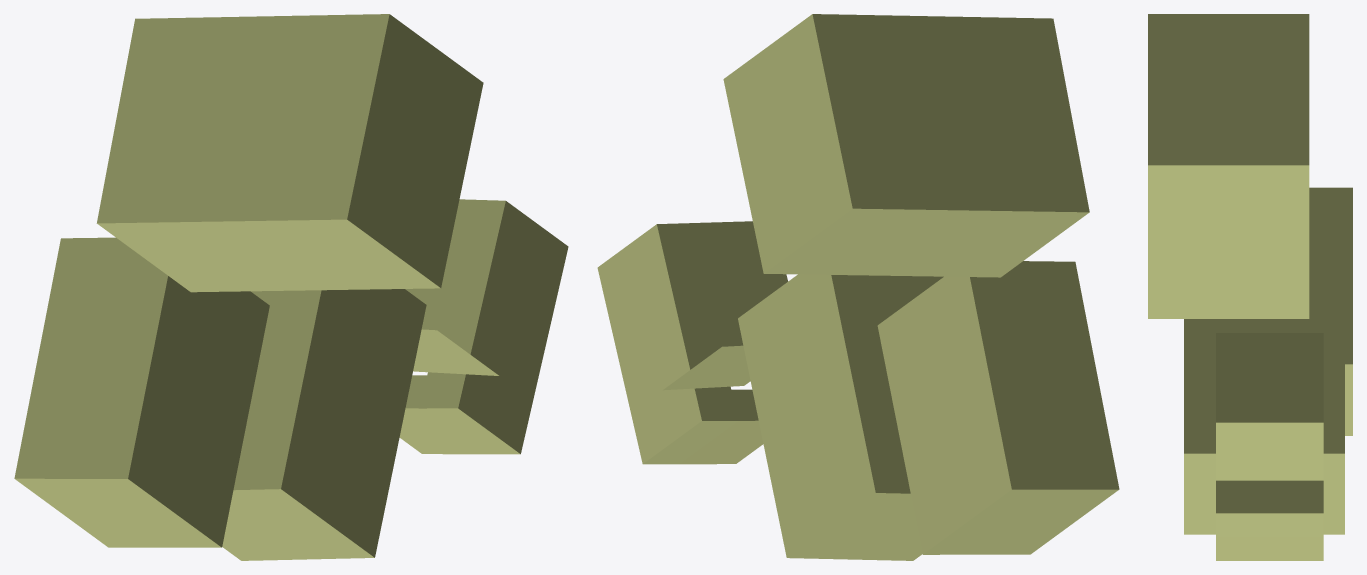
3 views of the same model, side by side, from view 1: azimuth 30°, elevation 25°; view 2: azimuth 150°, elevation 25°; view 3: azimuth 270°, elevation 25° (orthographic). The views are drawn at different scales.
Parts seen in each view (by area): view 1: 0_1_2_0_1_3_0_3_2_3; view 2: 0_1_2_0_1_3_0_3_2_3; view 3: 0_1_2_0_1_3_0_3_2_3.
Boxes of the visible parts, x1,y1,x2,y2 form: 0_1_2_0_1_3_0_3_2_3: (14, 14, 568, 560); 0_1_2_0_1_3_0_3_2_3: (597, 14, 1119, 560); 0_1_2_0_1_3_0_3_2_3: (1148, 14, 1352, 560).
Size of the model in its own units: 26.22 by 27.8 by 11.44.
